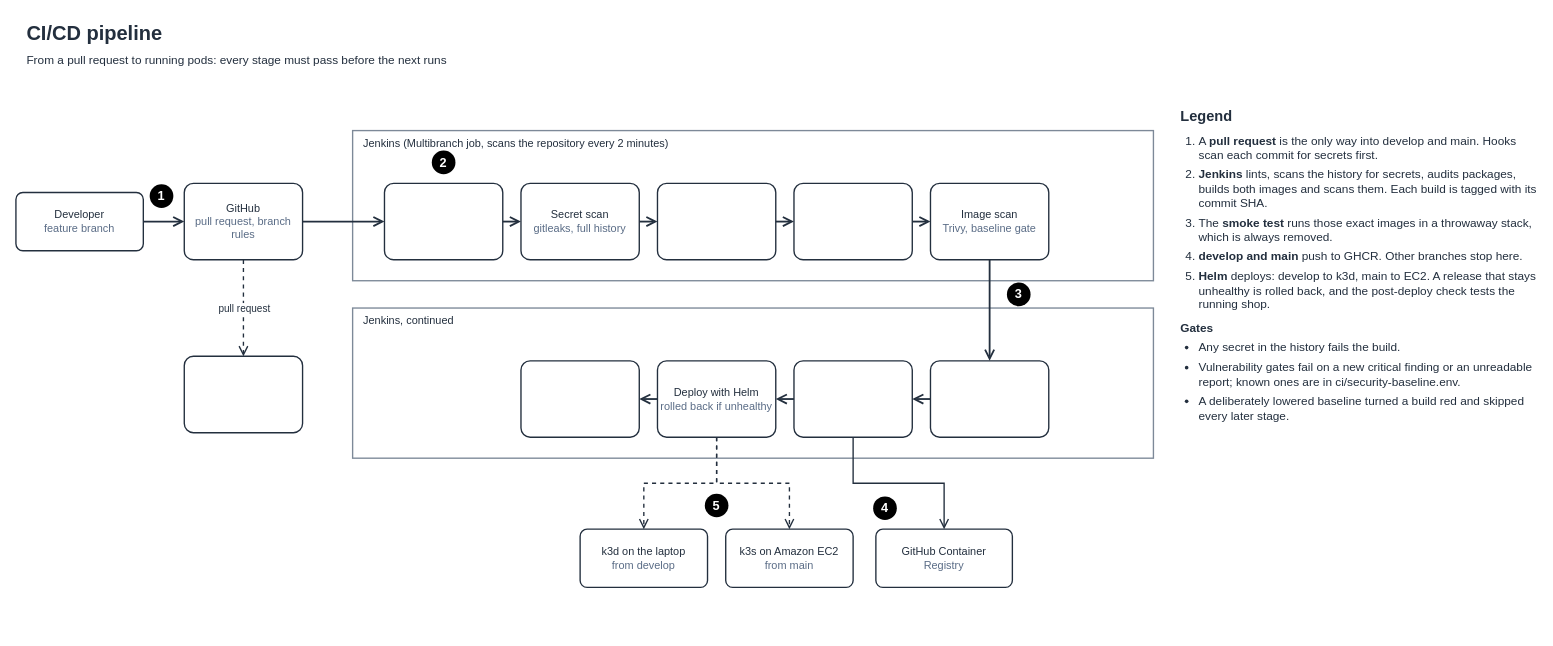
Some shapes in this 1553 by 646 pixel diagram are drawn without their labels. Each missing label, with the centre of its shape:
Build images tag = commit SHA: point 853,221
Dependency audit npm audit, baseline gate: point 716,221
GitHub Actions lint, gitleaks, image builds: point 243,394
Lint shellcheck, shfmt, hadolint, helm: point 443,221
Post-deploy check smoke test on the running shop: point 580,399
Push to GHCR develop and main, three attempts: point 853,399
Smoke test throwaway Compose stack: point 989,399
